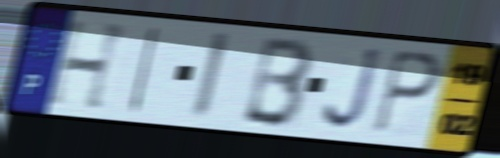B: (239, 35, 317, 131)
H: (43, 18, 133, 114)
I: (188, 29, 233, 123), (125, 24, 164, 115)
J: (320, 45, 385, 134)
P: (371, 47, 443, 137)
